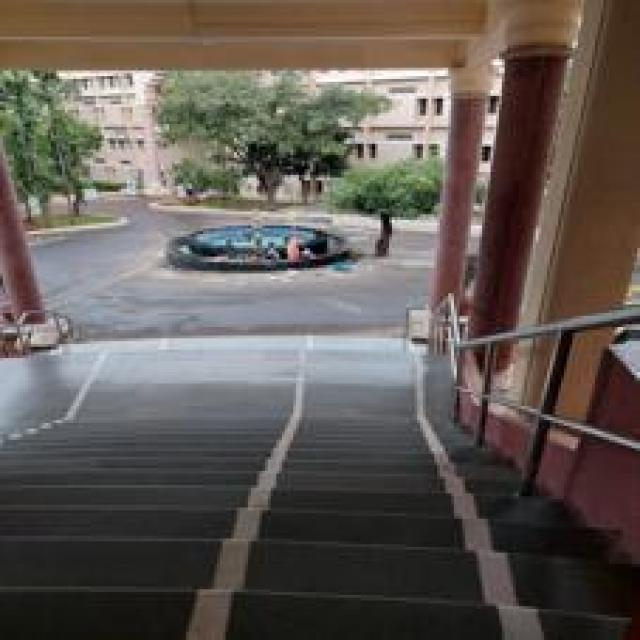downstair: (100, 416, 472, 591)
